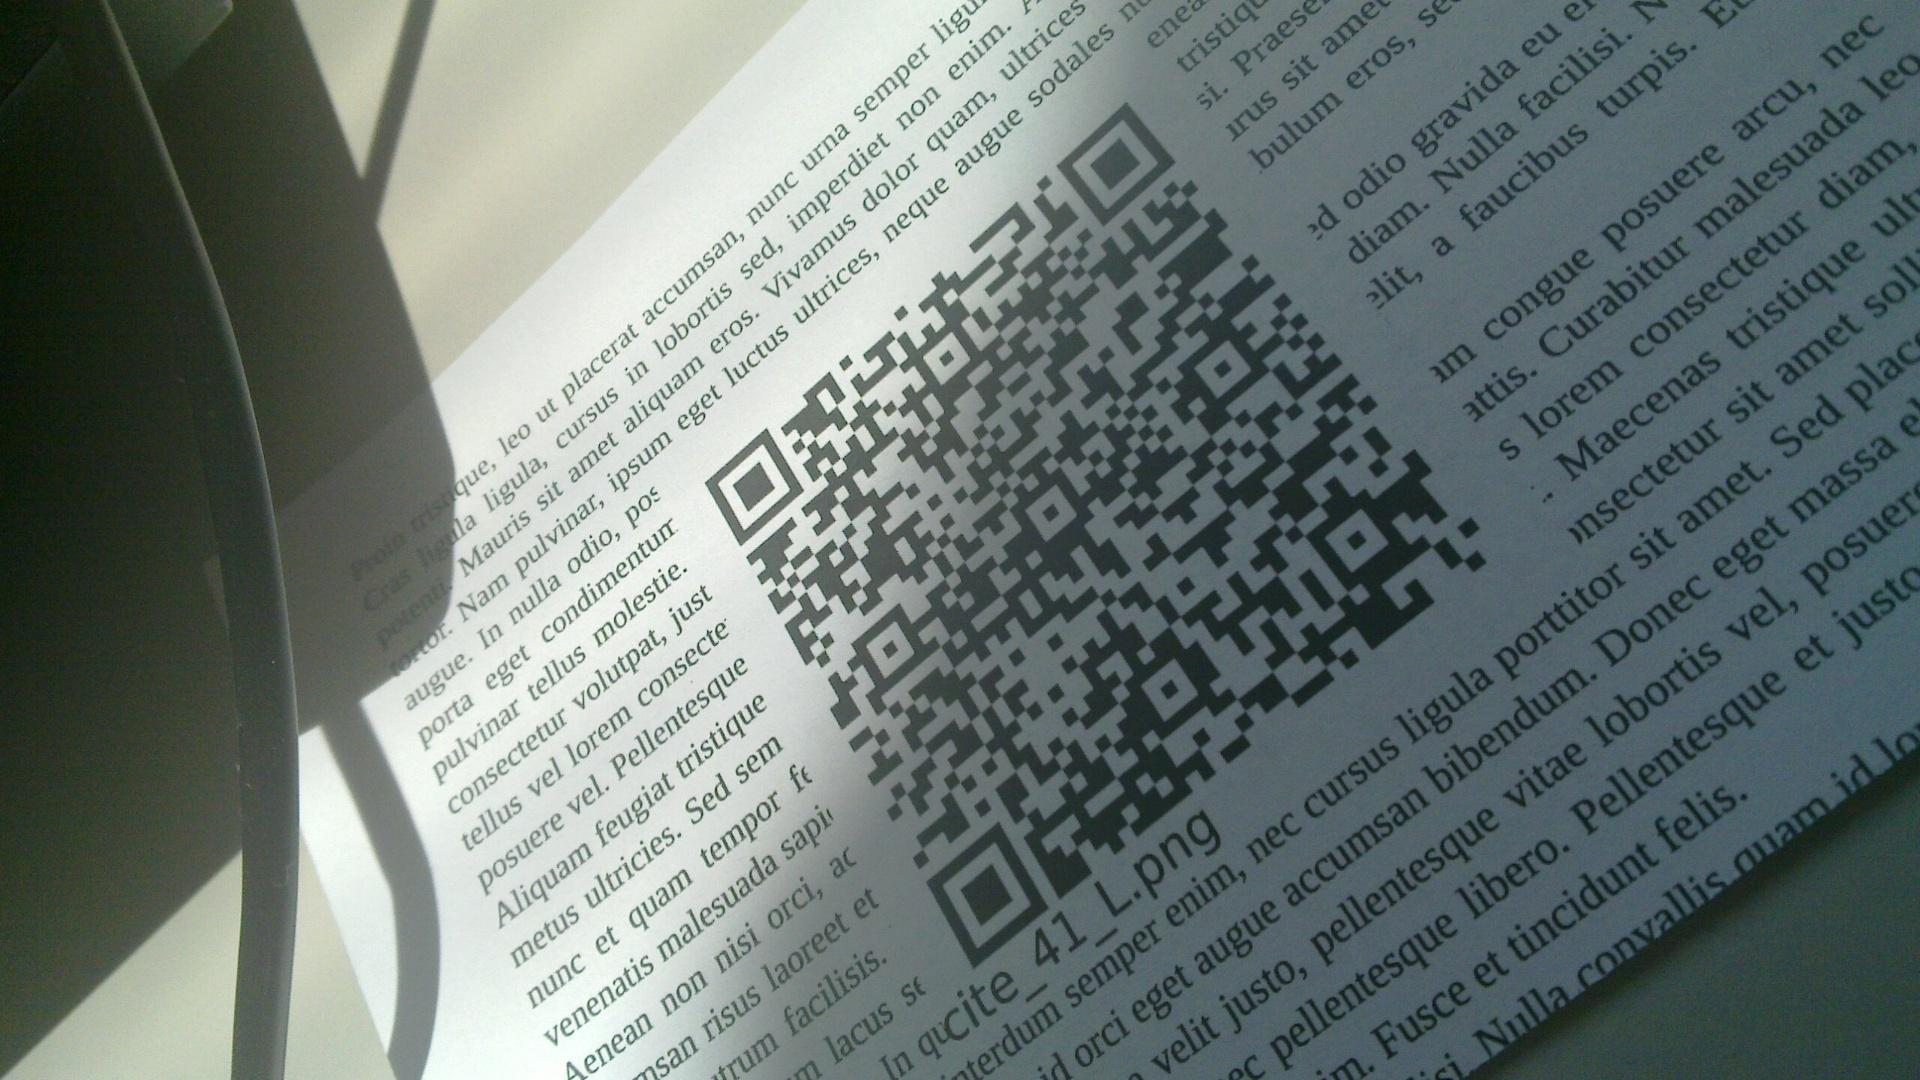Finder pattern: (928, 822, 1048, 967), (1054, 111, 1174, 225), (700, 433, 802, 546)
